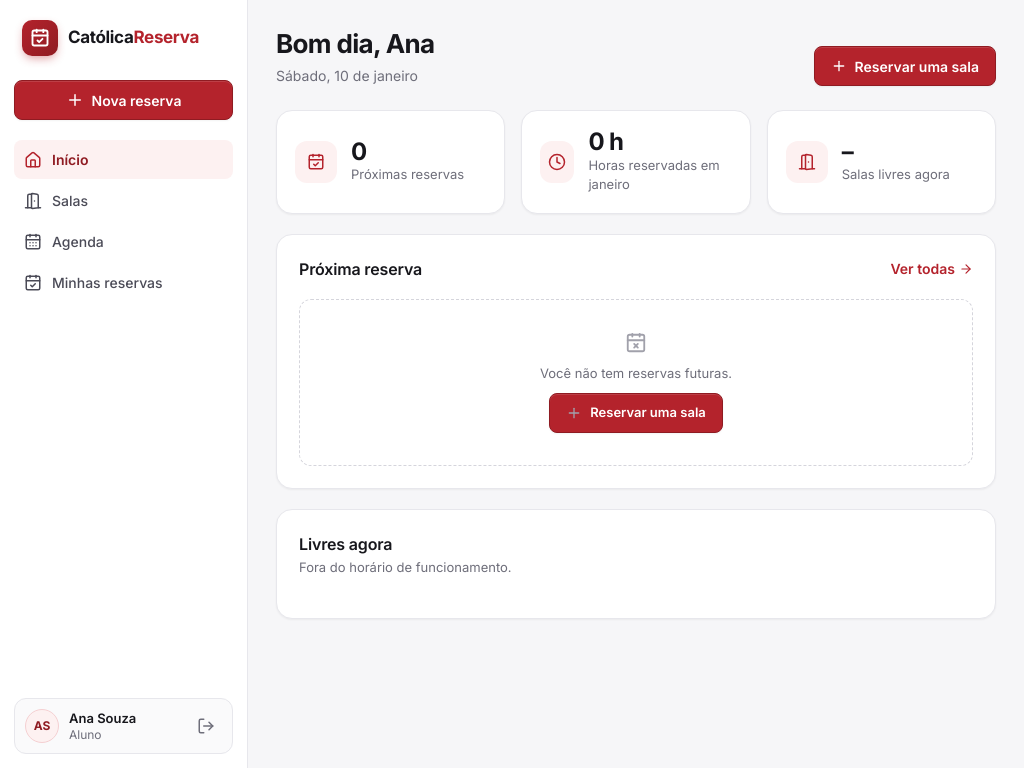
it: App › fechar o painel não salva nada
Click the button "Nova reserva". click: (124, 100)
box: x1=14 y1=80 x2=233 y2=120
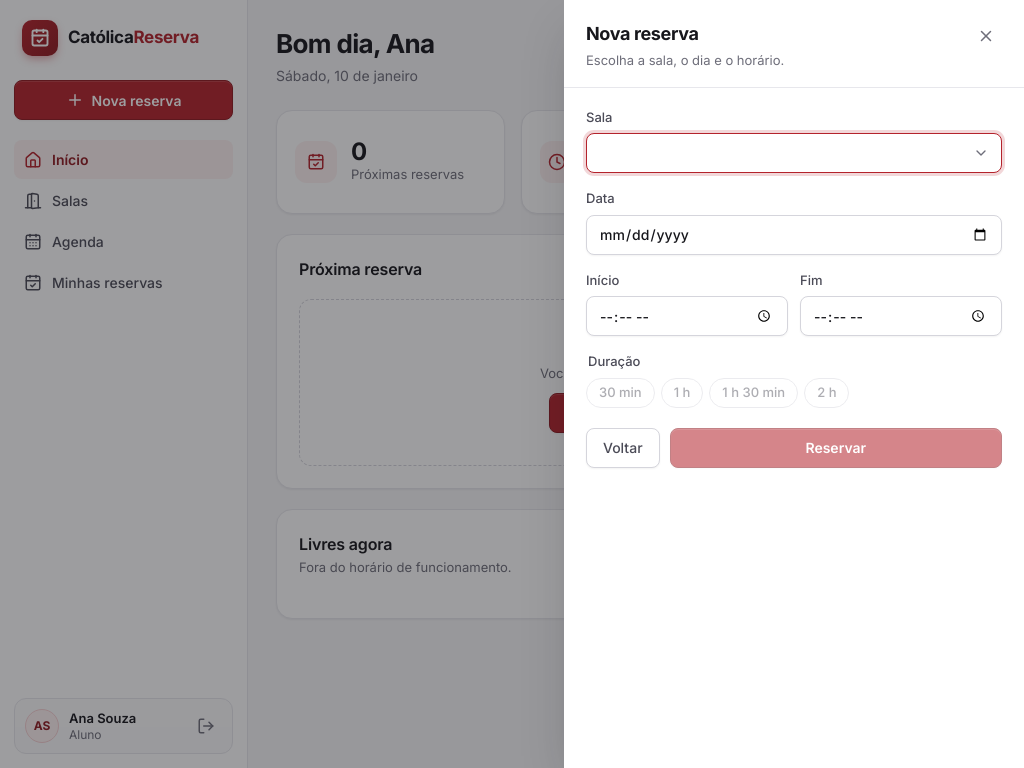
Click the button named "Fechar". click: (986, 36)
box: x1=970 y1=20 x2=1002 y2=52
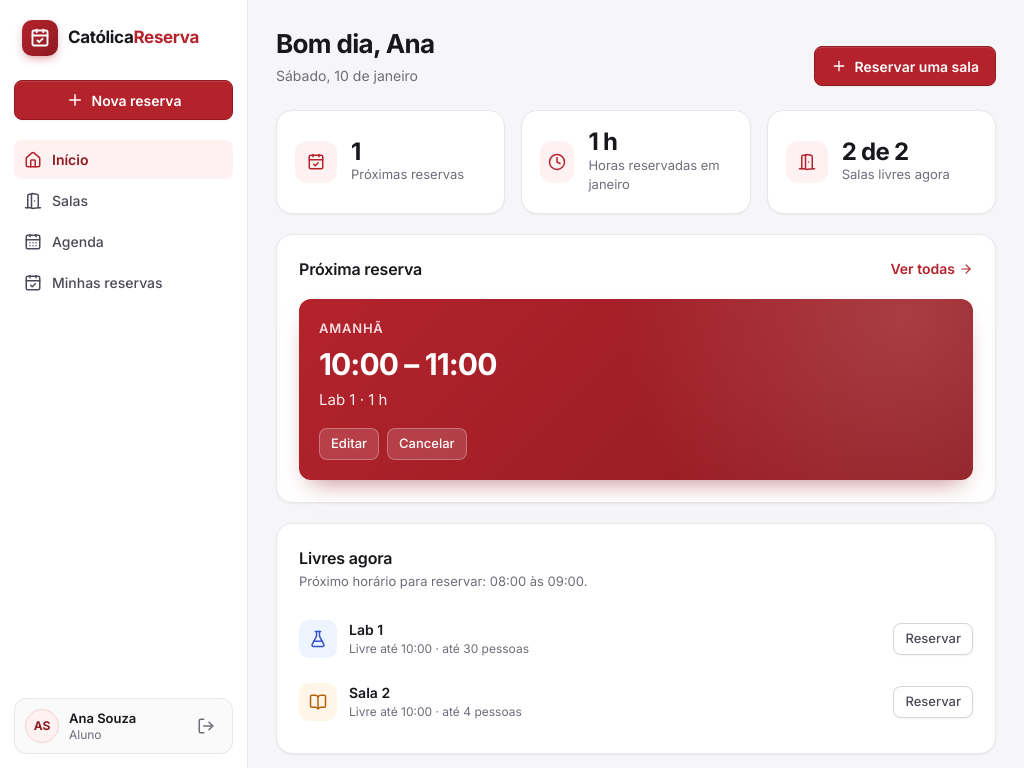
Expected: the dialog is gone
